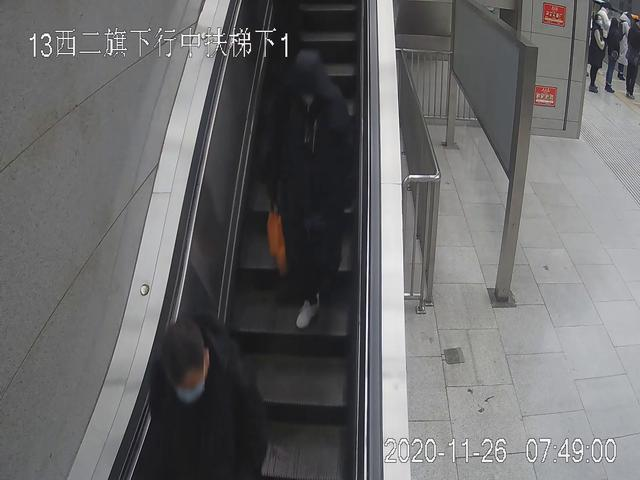person: (260, 49, 359, 329), (145, 322, 262, 480), (603, 17, 624, 95), (587, 14, 607, 94)
